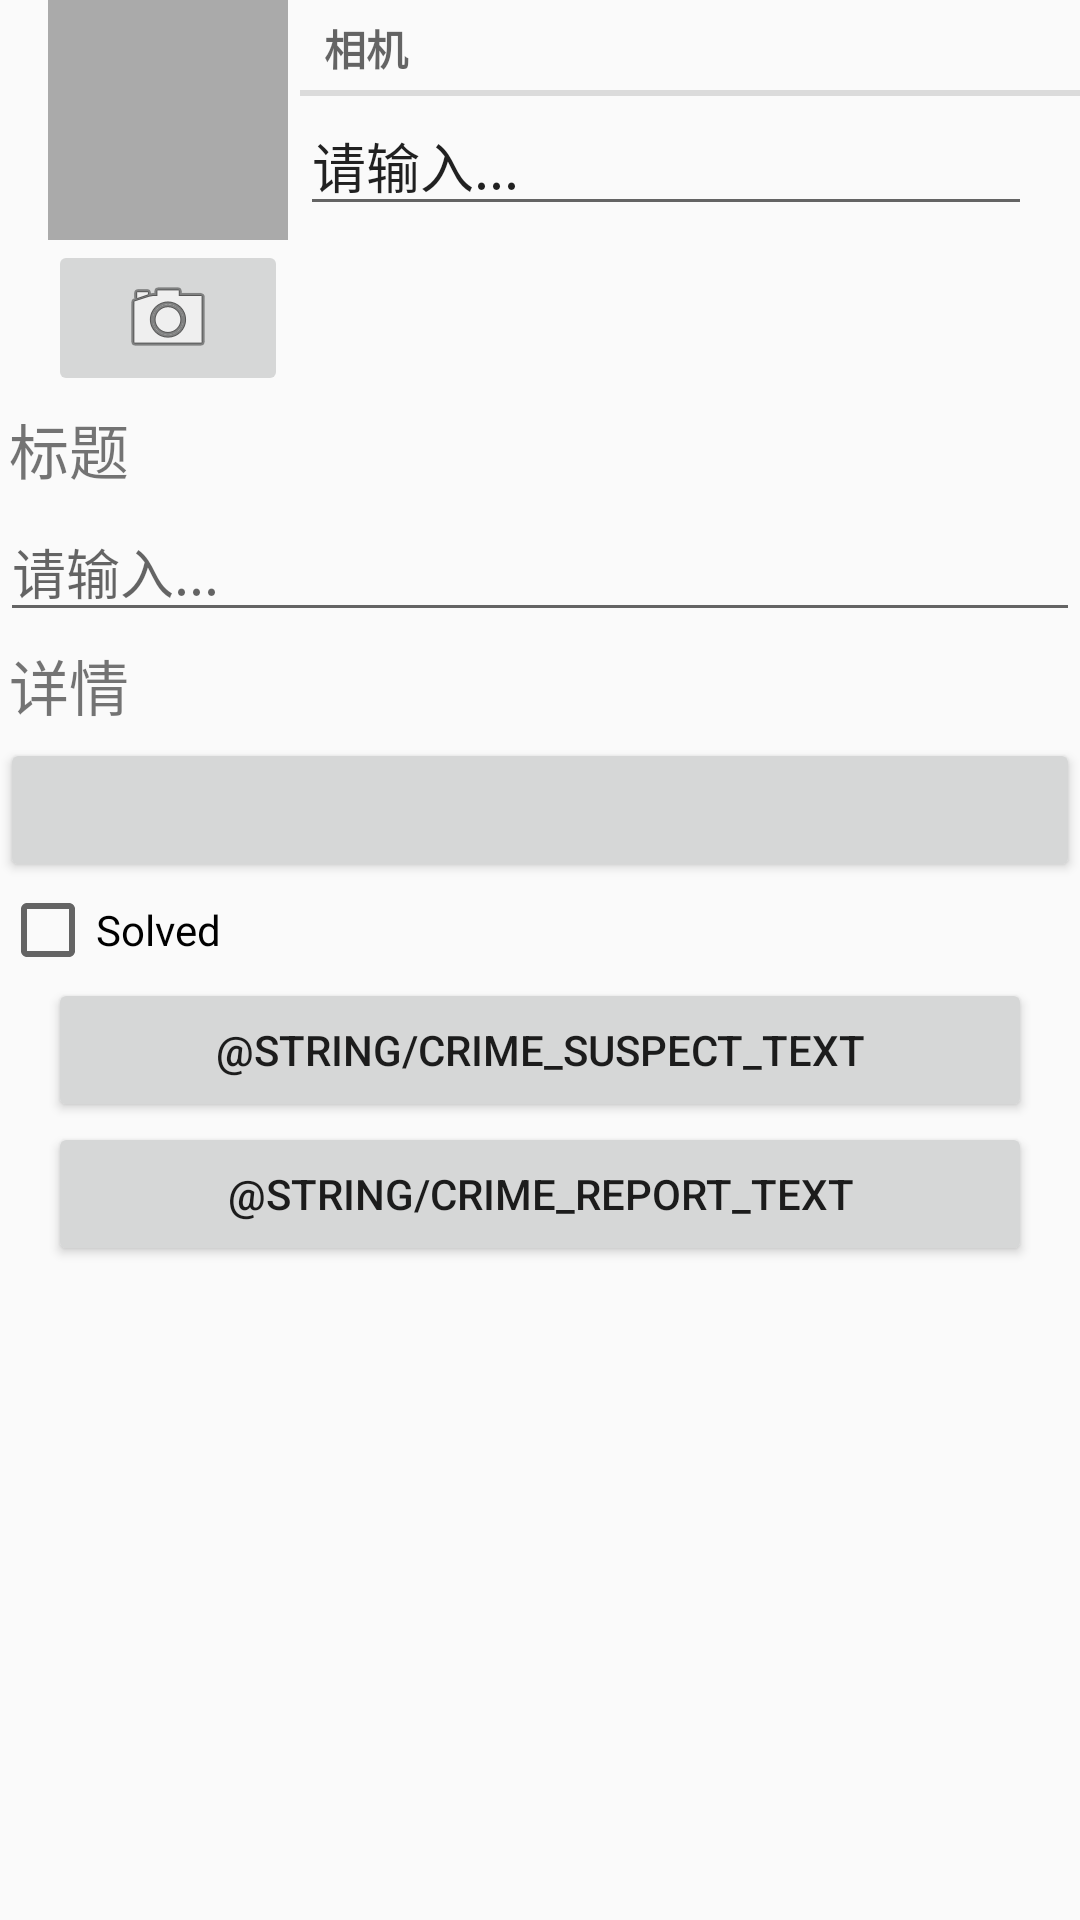

Icons on this 1080 x 1920 Android screen, each with its box as {"left": x1, "top": y1, "right": x2, "bottom": y2}:
camera: {"left": 60, "top": 258, "right": 276, "bottom": 378}
